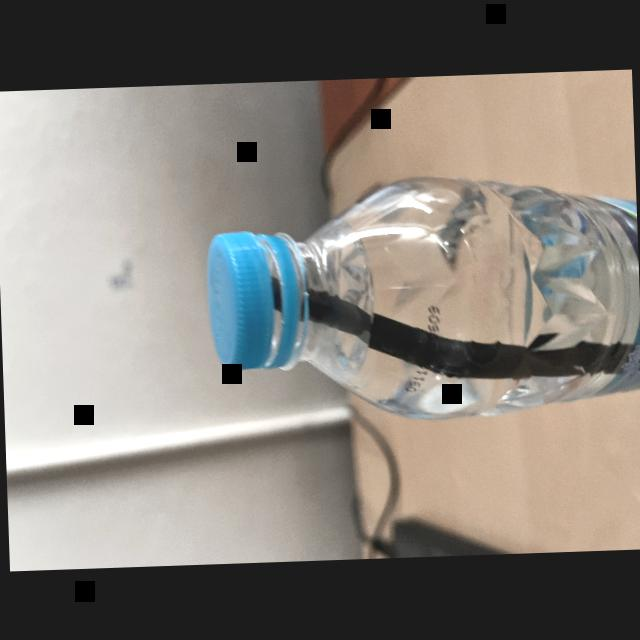plastic_bottle_cap: (182, 226, 274, 380)
